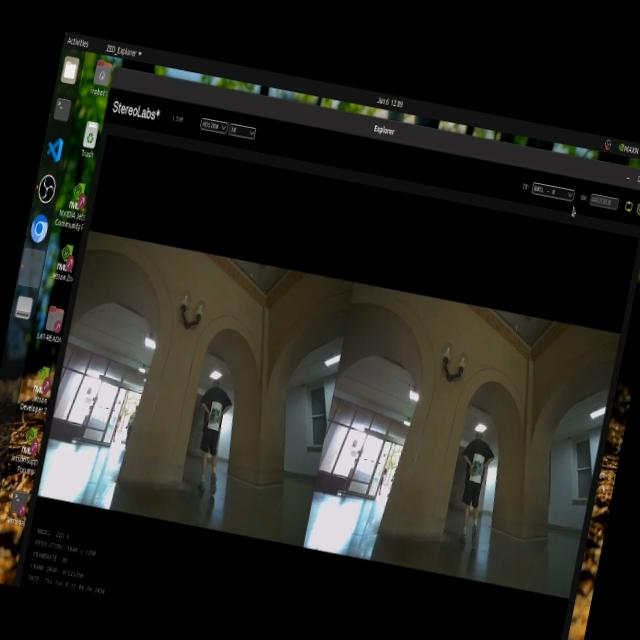green: (206, 404, 227, 434), (470, 454, 490, 478)
